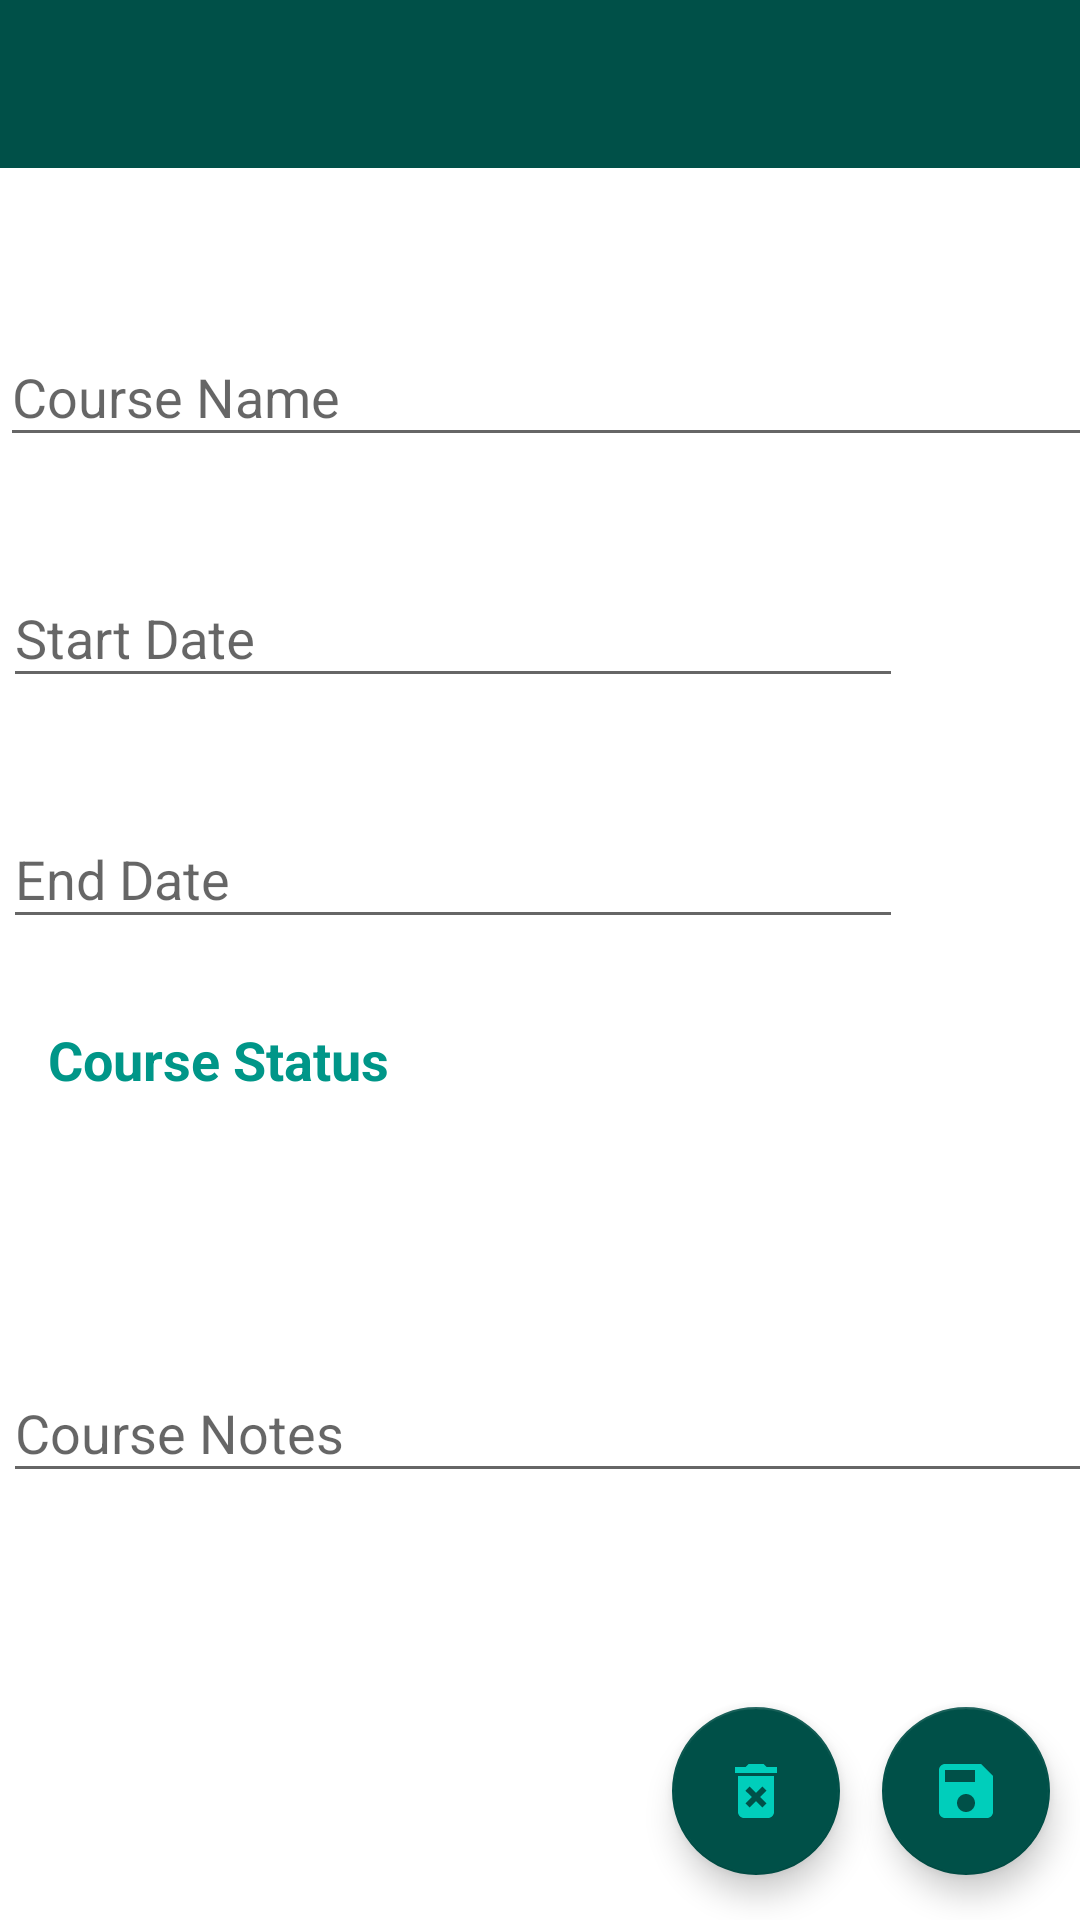

Point at icon controls on the screen. Image size 1080x1920, points as [x,y].
delete forever: [756,1791]
save: [966,1791]
